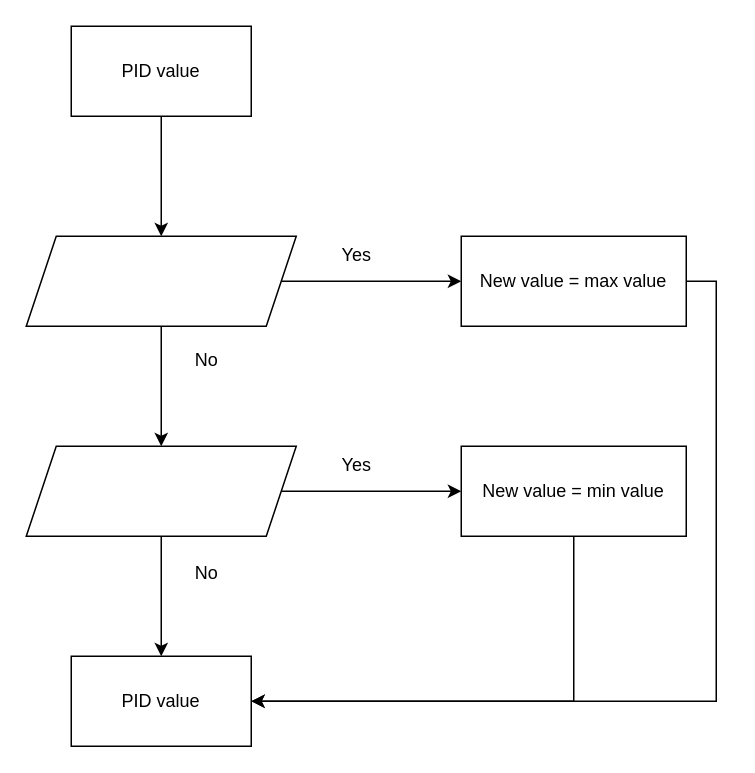
Some shapes in this 755 by 773 pixel diagram are drawn without their labels. Here are the shapes that lost their labels. From the top down, the centre of each, then its label:
At pixel 160 280: "New value > max limit".
At pixel 160 490: "New value < min limit".
